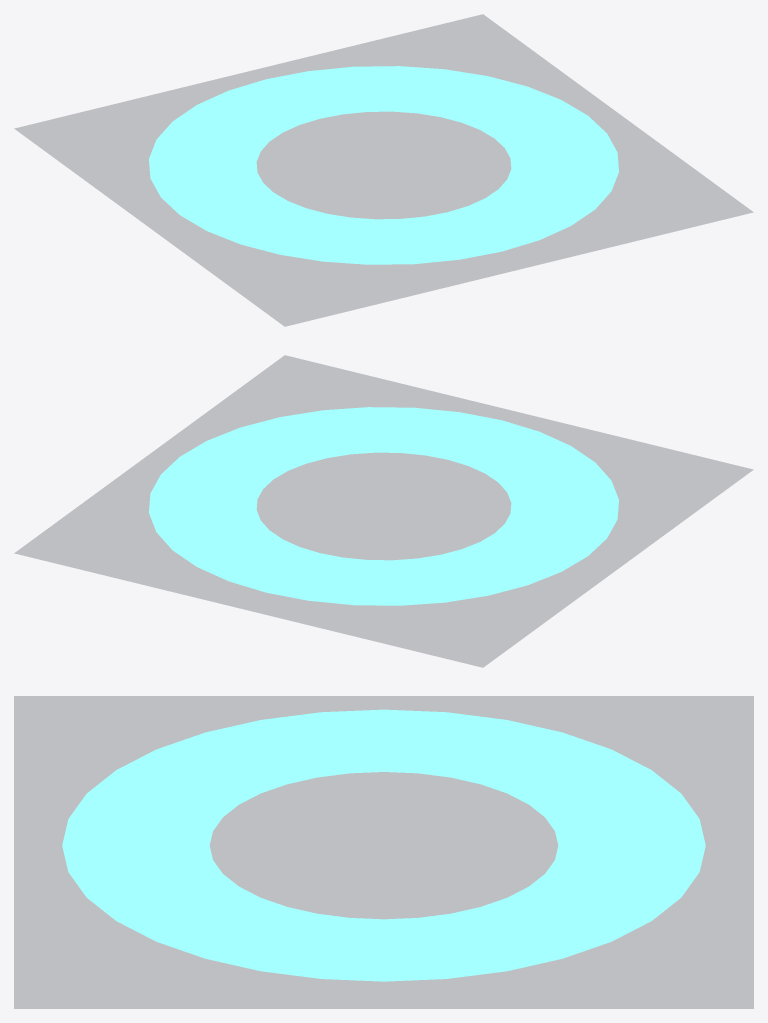
The model's file is tileMark.gltf.
The picture shows the model from 3 angles, top to bottom: view 1: azimuth 30°, elevation 25°; view 2: azimuth 150°, elevation 25°; view 3: azimuth 270°, elevation 25°; orthographic projection. The views are drawn at different scales.
Visible parts, largest first — view 1: Plane.002, Circle.008; view 2: Plane.002, Circle.008; view 3: Plane.002, Circle.008.
Boxes of the visible parts, box(x1,y1,x2,y2) form: Plane.002: box(14, 14, 753, 326); Circle.008: box(149, 66, 618, 264); Plane.002: box(14, 355, 753, 667); Circle.008: box(149, 407, 618, 605); Plane.002: box(14, 696, 753, 1008); Circle.008: box(62, 709, 705, 981).
Bounding box in the file's own units: 1.95 × 0.02 × 1.95.
